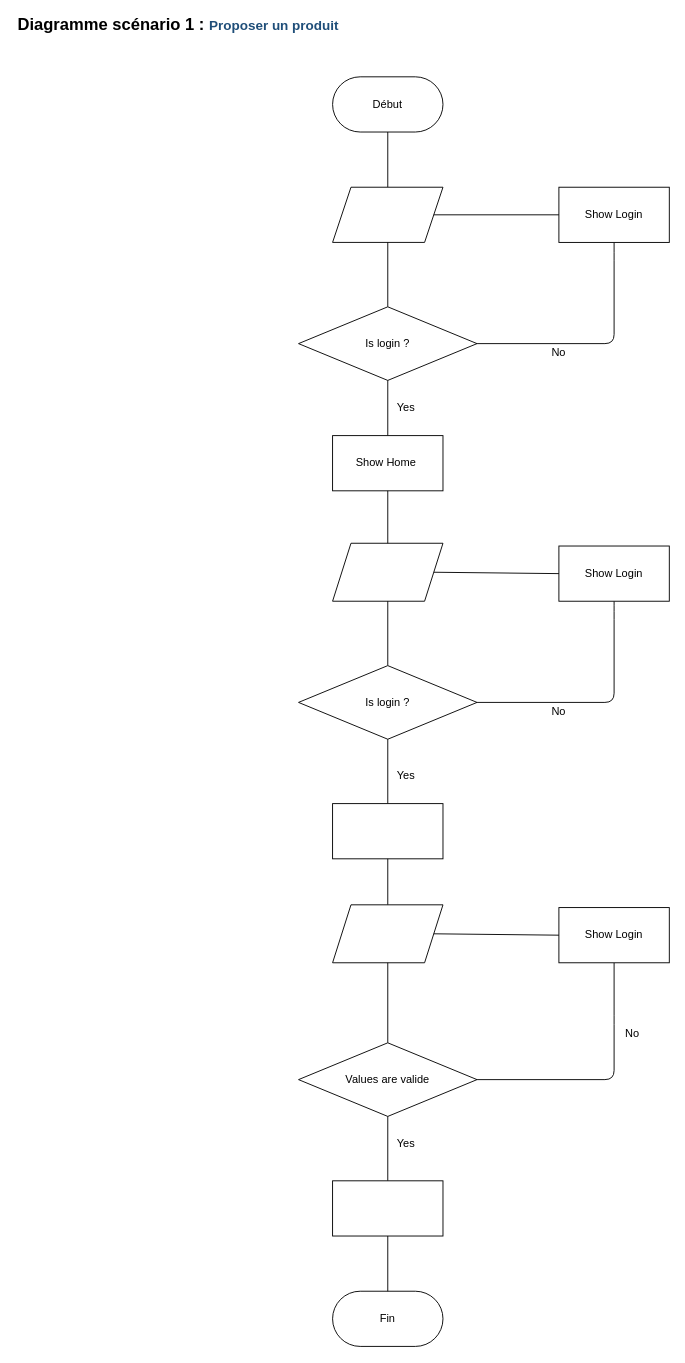
Some shapes in this 685 by 1363 pixel diagram are drawn without their labels. The shapes that lost their labels are listed below. From the top down, each one's centre as x and y in pixels, then its label:
point (387, 214): Open web page
point (387, 571): Click on publish
point (387, 831): Show CreatADD
point (387, 933): Enter add infos and
point (387, 1208): Creat the add ans show it on the home
